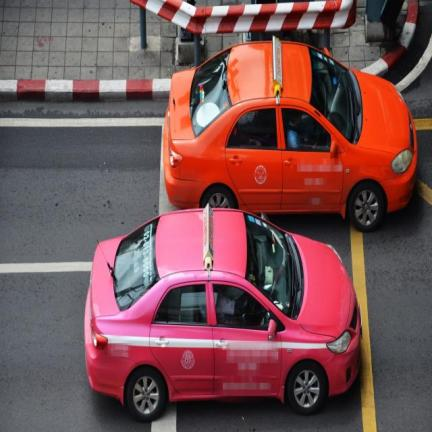taxi: (84, 206, 360, 421), (163, 41, 416, 231)
